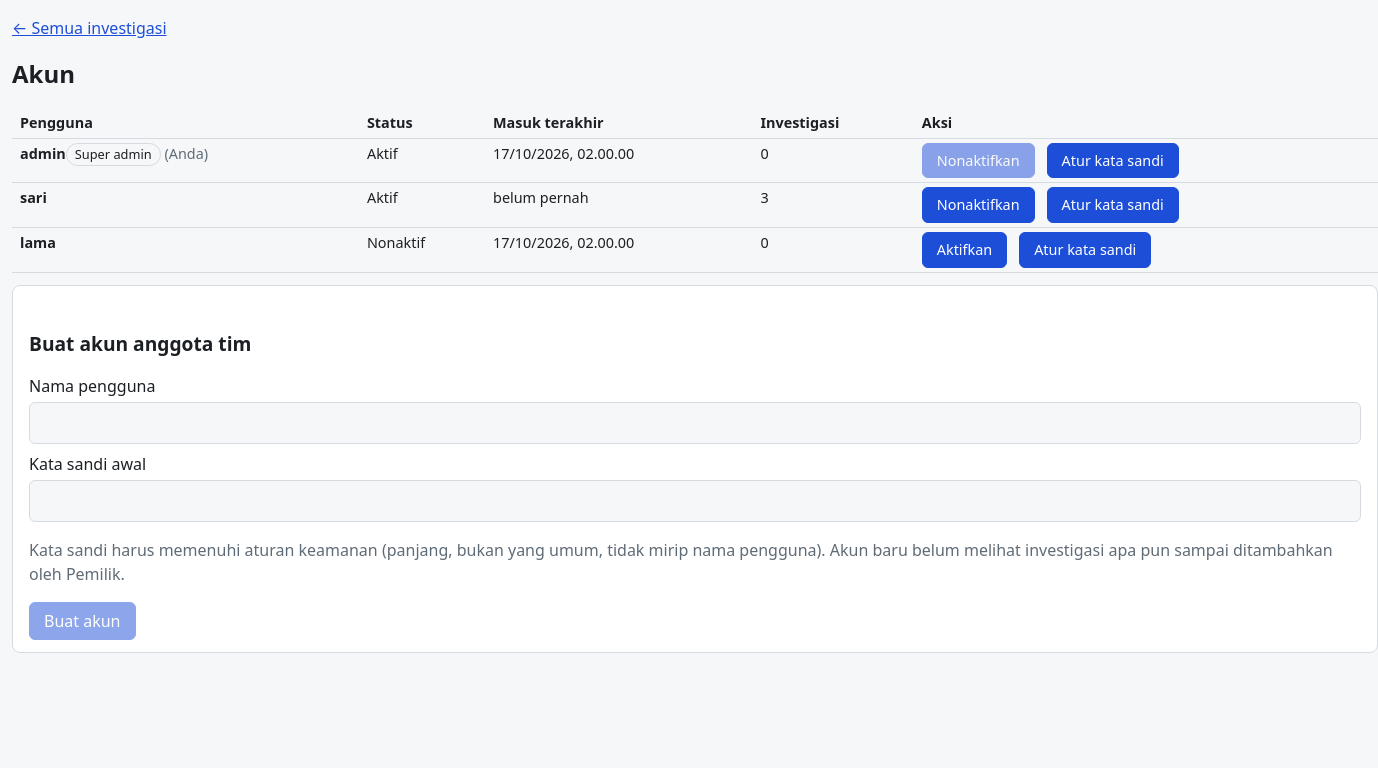
Test case: UsersPage › membuat akun: kirim nama (dipangkas) dan kata sandi, kosongkan isian, jangan menampilkan kata sandi
The width and height of the screenshot is (1378, 768).
Expected: the table named "Akun pengguna" is shown, [12,108,1377,273]
Type "  baru  " into the field labelled "Nama pengguna".
click(695, 423); type("  baru  ")  # box [29,402,1361,444]
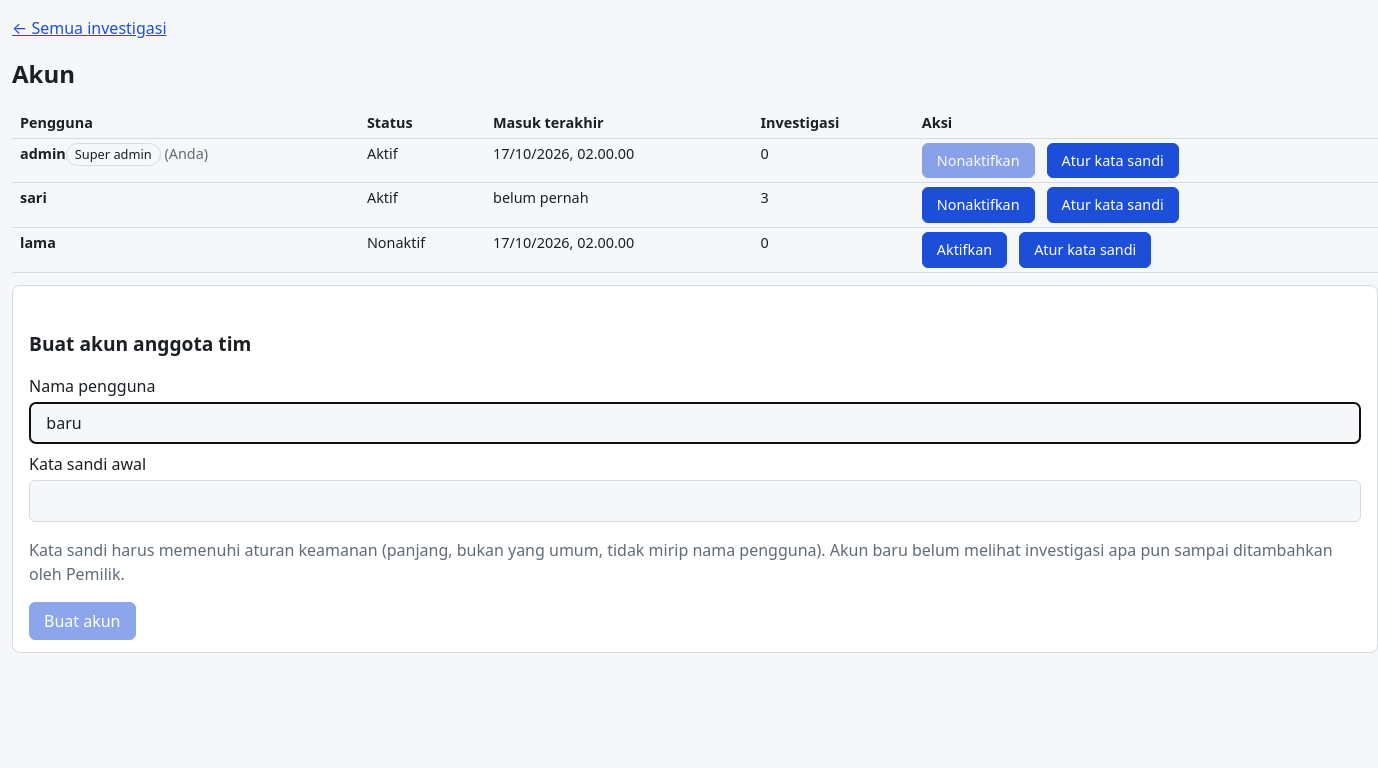
Type "Sandi-awal-yang-kuat-42!" into the password field labelled "Kata sandi awal".
click(695, 501); type("Sandi-awal-yang-kuat-42!")  # box [29,480,1361,522]
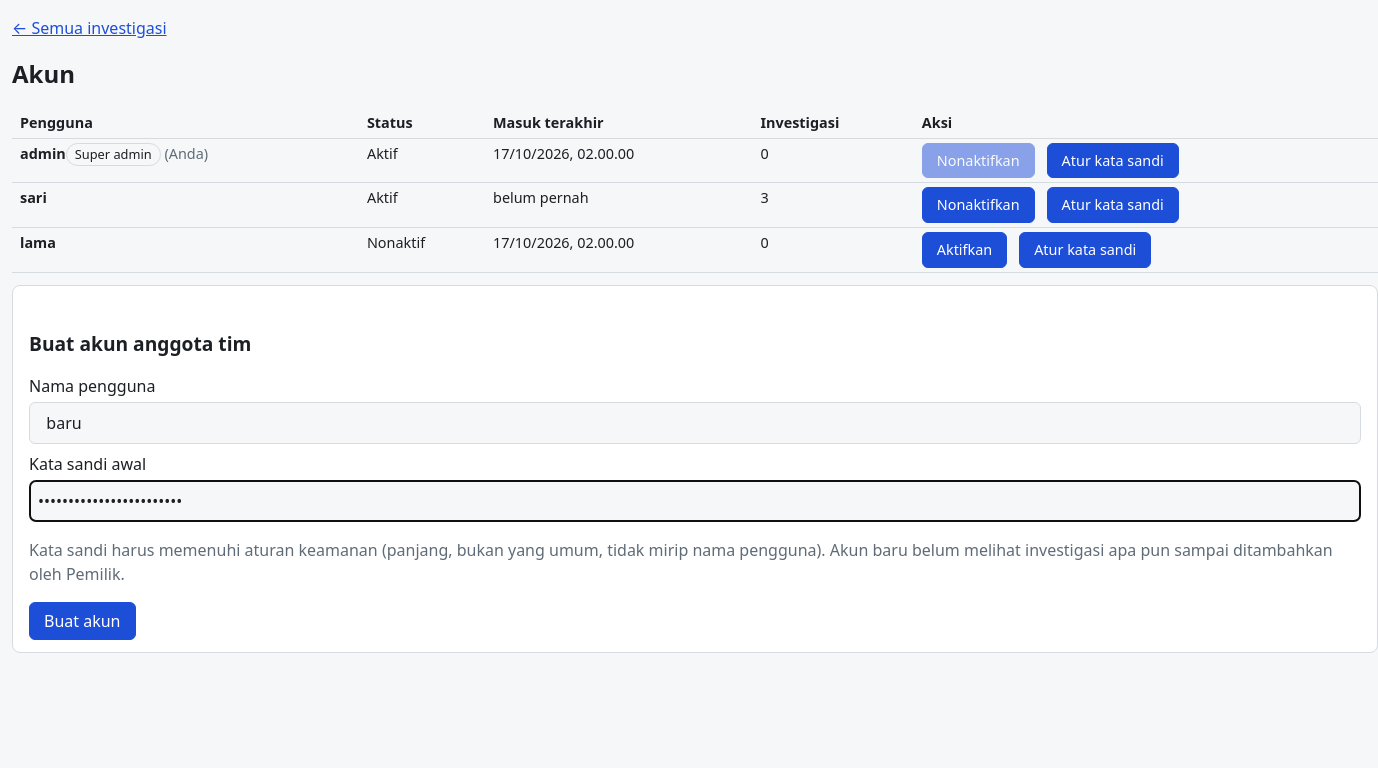
Click the button "Buat akun".
click(82, 621)  # box [29,602,136,640]
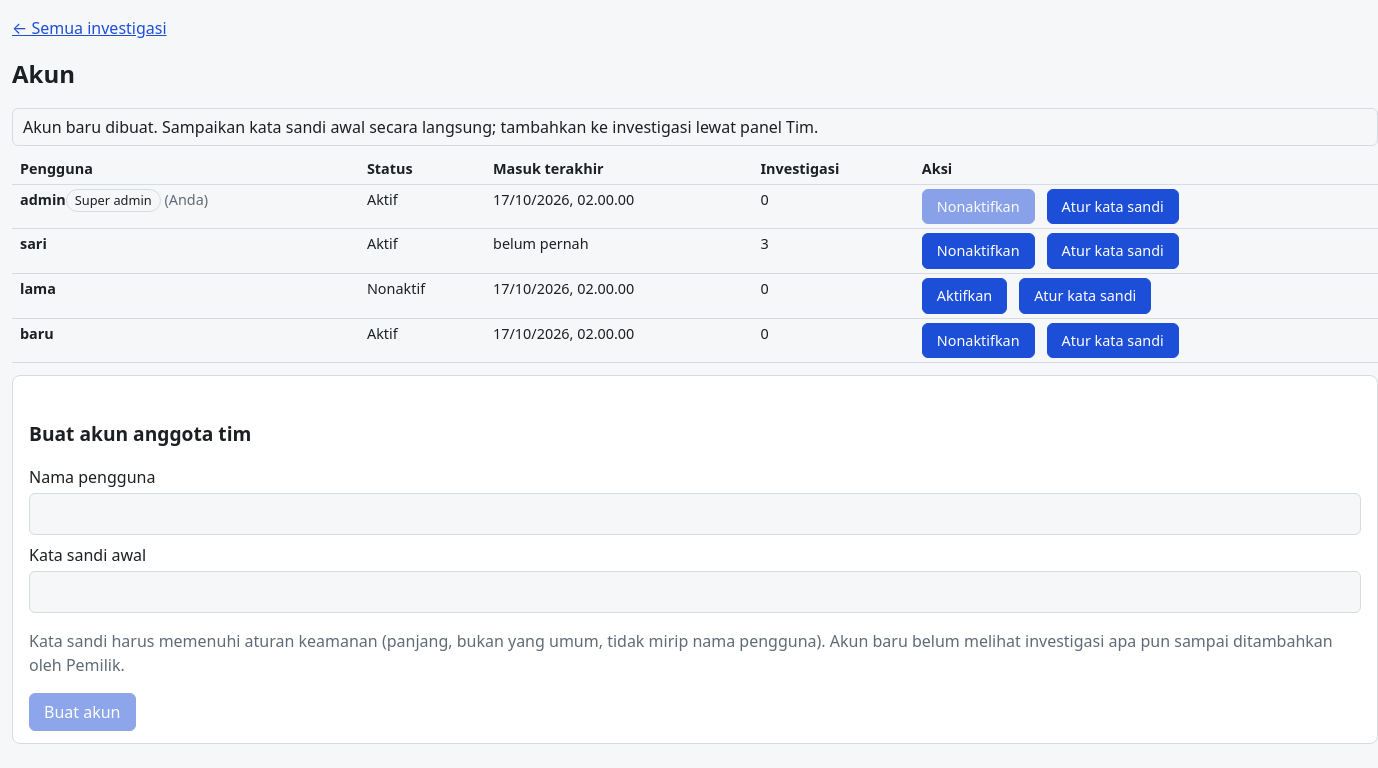
Now the message shows "Akun baru dibuat", box [23,116,818,138]
Now the field labelled "Nama pengguna" is empty, box [29,493,1361,535]
Now the password field labelled "Kata sandi awal" is empty, box [29,571,1361,613]
